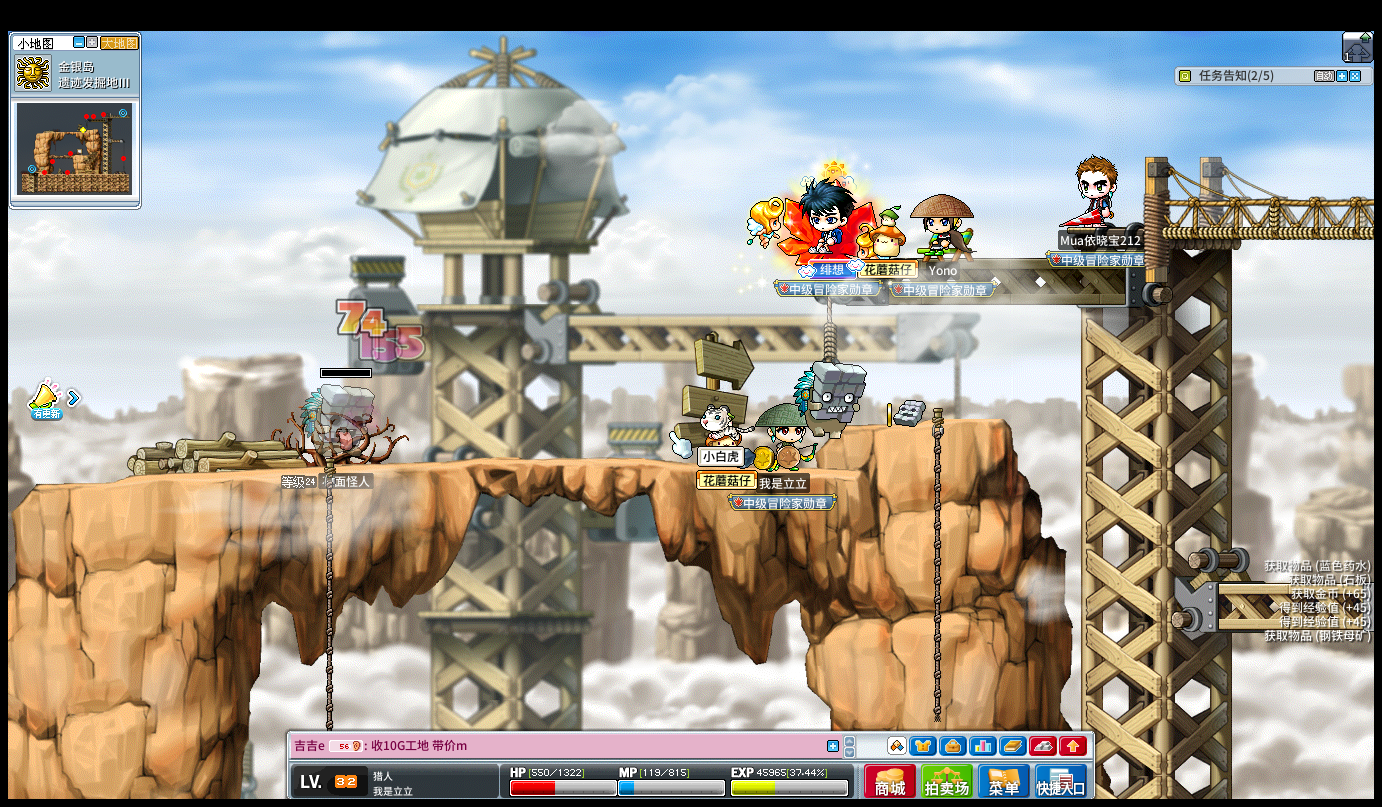floor: (29, 455, 909, 485), (60, 455, 892, 478), (842, 412, 1007, 429), (844, 418, 1007, 433), (1217, 580, 1366, 593)
monster: (299, 383, 375, 459), (795, 360, 866, 436)
rope: (929, 406, 944, 717), (322, 457, 335, 728)
